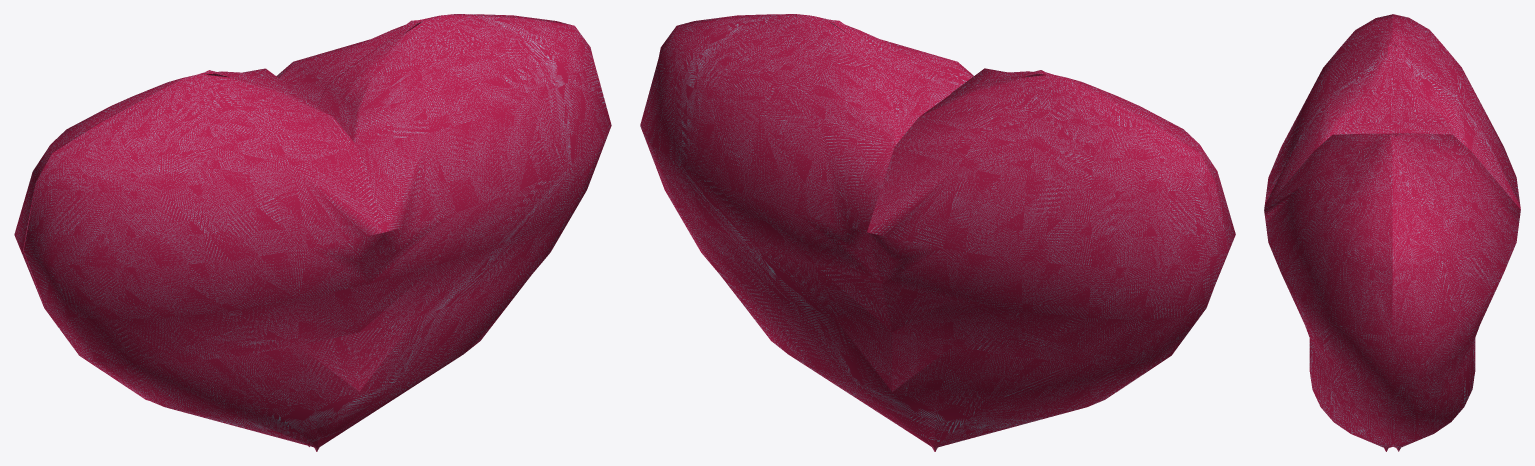
The model's file is heart.dae.
3 views of the same model, side by side, from view 1: azimuth 30°, elevation 25°; view 2: azimuth 150°, elevation 25°; view 3: azimuth 270°, elevation 25° (orthographic). The views are drawn at different scales.
Visible parts, largest first — view 1: Component_1; view 2: Component_1; view 3: Component_1.
Boxes of the visible parts, bbox=[...] form: Component_1: bbox=[14, 14, 611, 451]; Component_1: bbox=[640, 14, 1235, 451]; Component_1: bbox=[1264, 14, 1520, 451].
Size of the model in its own units: 352 by 150 by 233.
